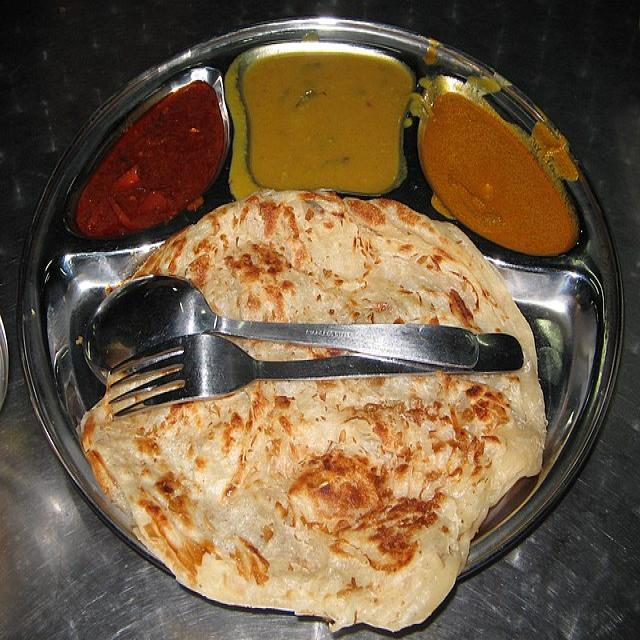Paratha: (99, 206, 572, 623)
